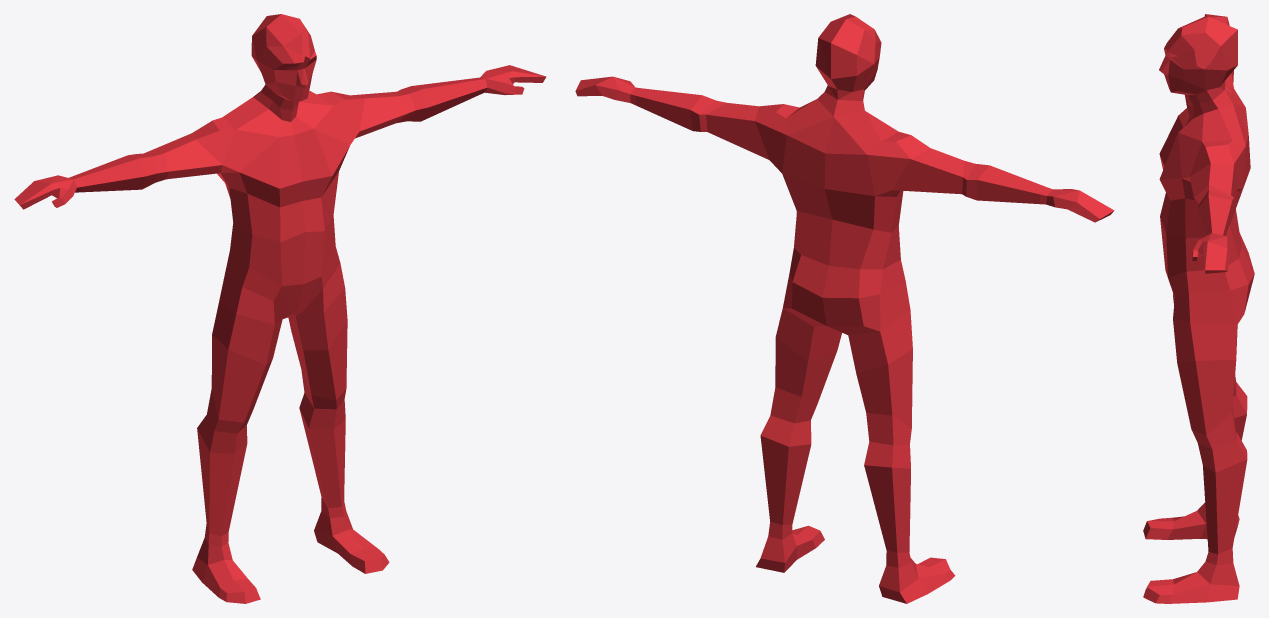
Rendered from Enemy.fbx.
3 renders of one model, left to right at view 1: azimuth 30°, elevation 25°; view 2: azimuth 150°, elevation 25°; view 3: azimuth 270°, elevation 25°, orthographic.
Parts seen in each view (by area): view 1: body; view 2: body; view 3: body.
Boxes of the visible parts, box(x1,y1,x2,y2) form: body: box(14, 14, 546, 603); body: box(575, 14, 1114, 603); body: box(1143, 14, 1254, 603).
Bounding box in the file's own units: 175 × 175 × 32.24.
